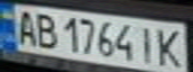1: (57, 14, 81, 53)
4: (112, 20, 139, 62)
6: (93, 19, 118, 58)
7: (75, 16, 96, 55)
A: (9, 7, 42, 46)
B: (30, 10, 60, 49)
I: (133, 24, 160, 65)
K: (154, 26, 187, 70)
